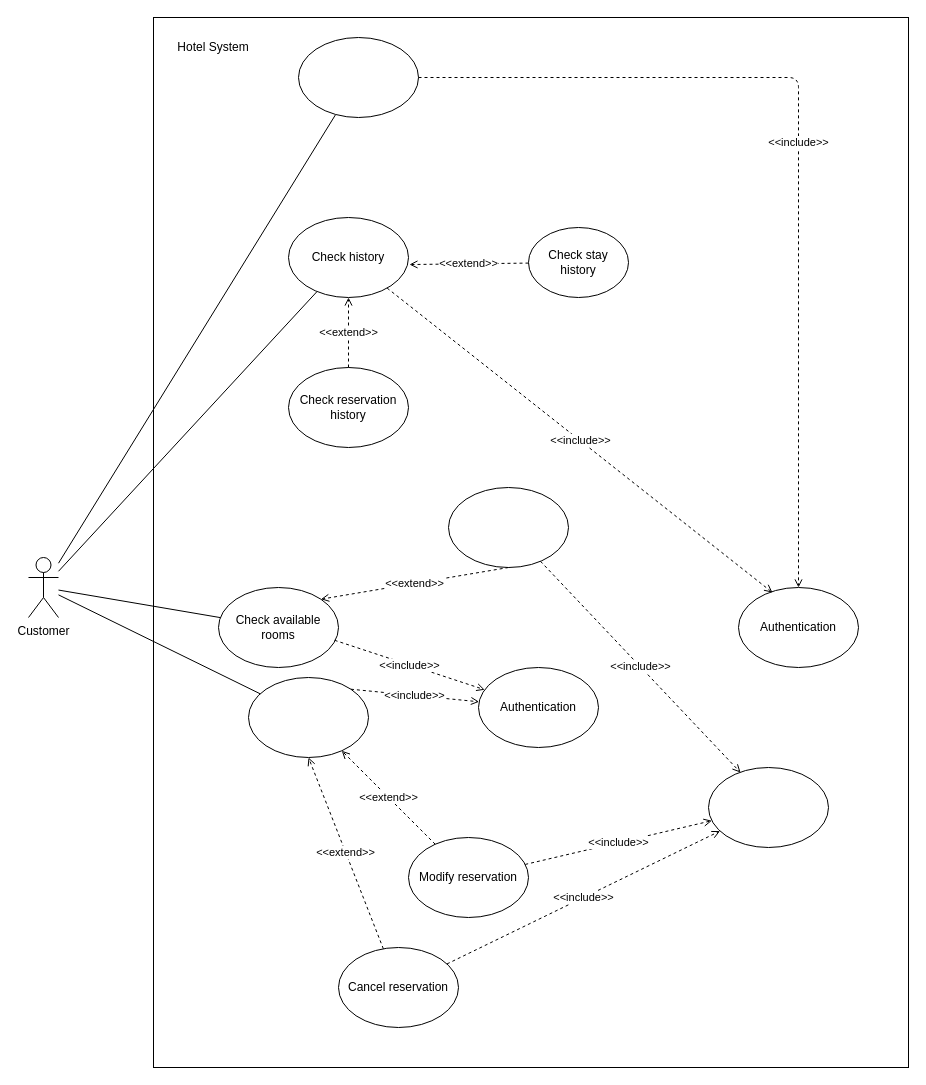
Image size: 926x1085. Some labels were removed from this diagram. The shapes that lost their labels are listed below. From the top down, each one's box as (x1, y1, x2, y2) in pixels, then its label:
(298, 36, 418, 118): Pay bill
(448, 486, 568, 568): Reserve a room
(248, 676, 368, 758): Check reserved rooms
(708, 766, 828, 848): Save reservation changes
